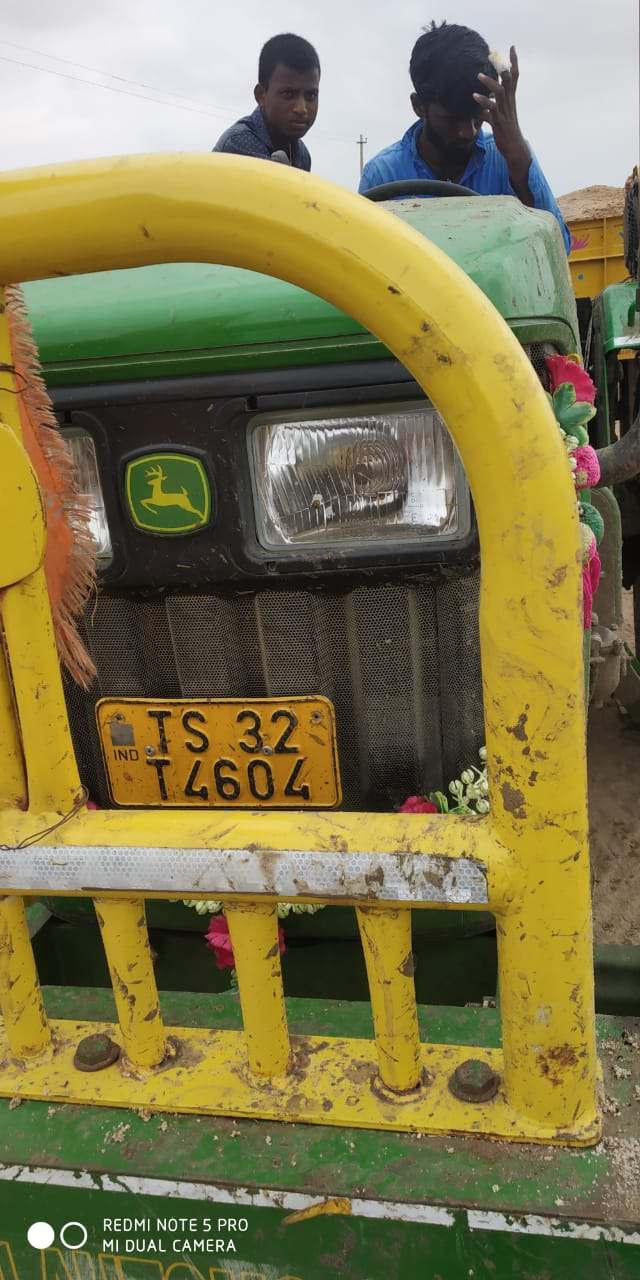license_plate: (97, 694, 342, 817)
